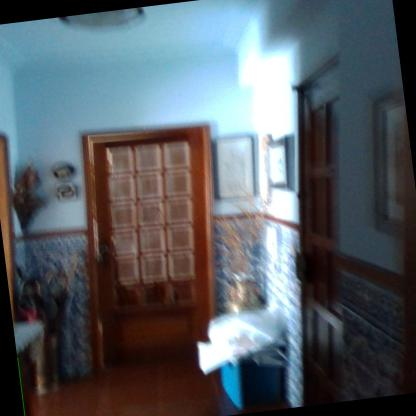closed: (68, 113, 245, 378)
